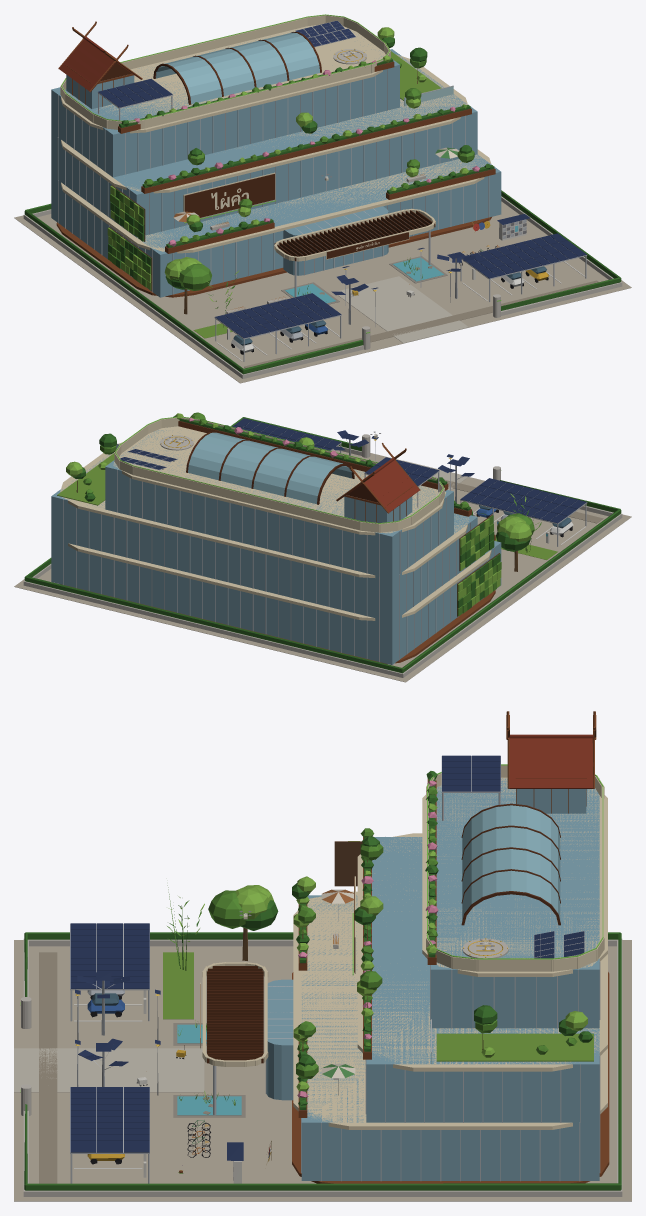
Rendered from store.glb.
3 renders of one model, top to bottom at view 1: azimuth 30°, elevation 25°; view 2: azimuth 150°, elevation 25°; view 3: azimuth 270°, elevation 25°, orthographic. The views are drawn at different scales.
Visible parts, largest first — view 1: body, windows; view 2: body, windows; view 3: body, windows.
Boxes of the visible parts, bbox=[...] form: body: bbox=[14, 15, 631, 383]; windows: bbox=[61, 14, 546, 345]; body: bbox=[14, 412, 631, 682]; windows: bbox=[115, 416, 571, 536]; body: bbox=[14, 711, 631, 1201]; windows: bbox=[20, 764, 603, 1092].
Bounding box in the file's own units: 47.9 × 22.37 × 47.9.
